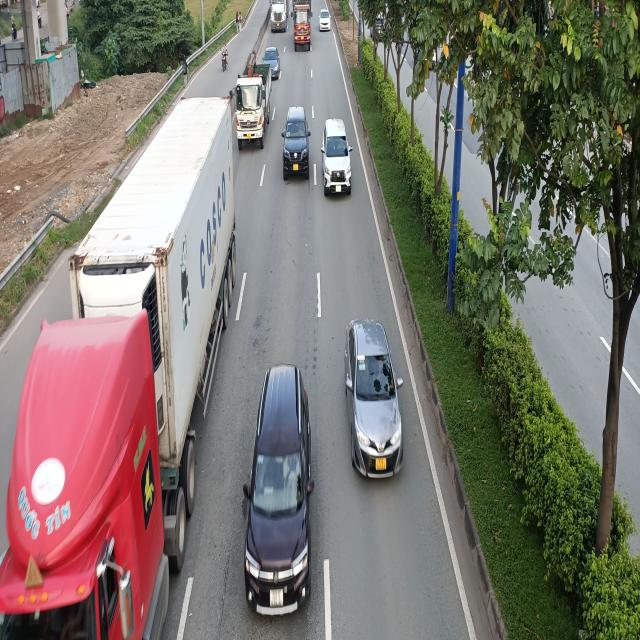car: (241, 362, 314, 618), (345, 316, 403, 475), (322, 118, 353, 193), (282, 106, 312, 179), (318, 8, 330, 31)
container: (0, 96, 237, 639), (269, 0, 287, 32)
truck: (230, 53, 272, 145), (290, 0, 314, 51)
